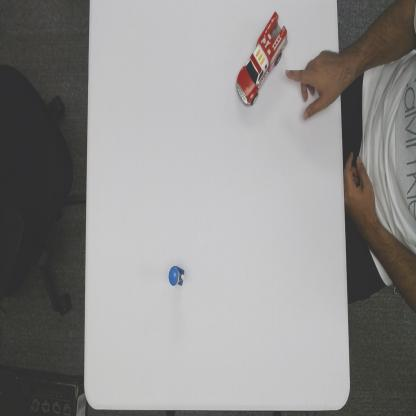Firetruck: (235, 11, 288, 109)
Hand: (284, 50, 340, 121)
